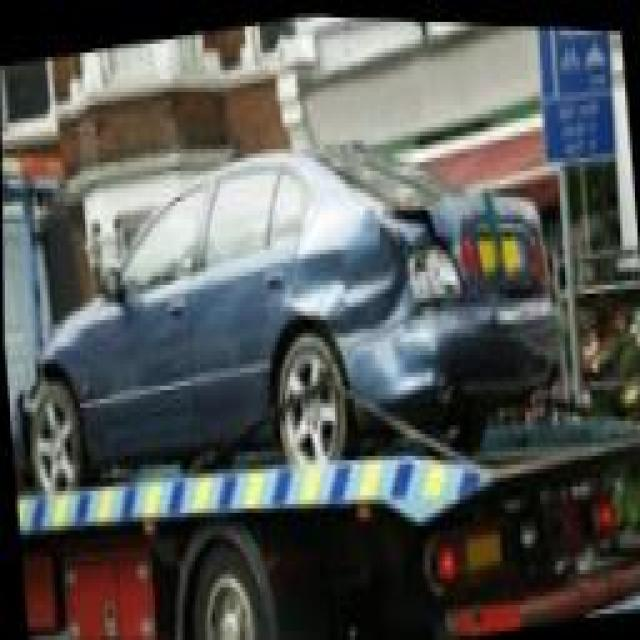replaceable: (317, 259, 452, 361), (378, 215, 465, 308)
